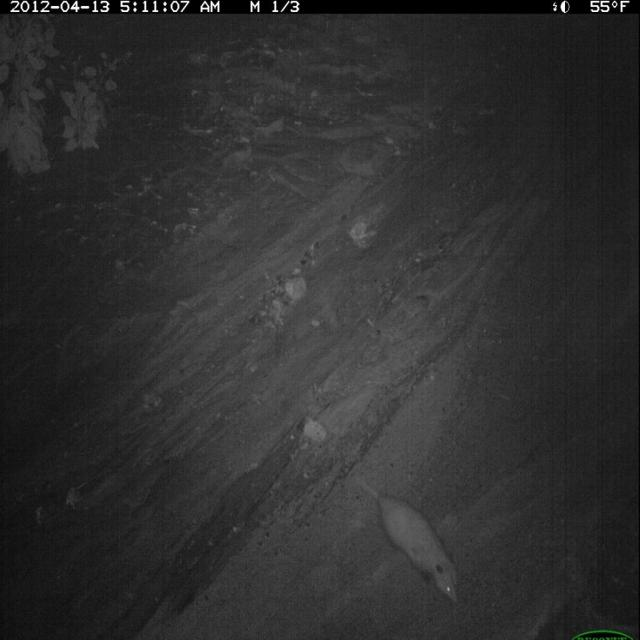opossum: (350, 467, 465, 611)
